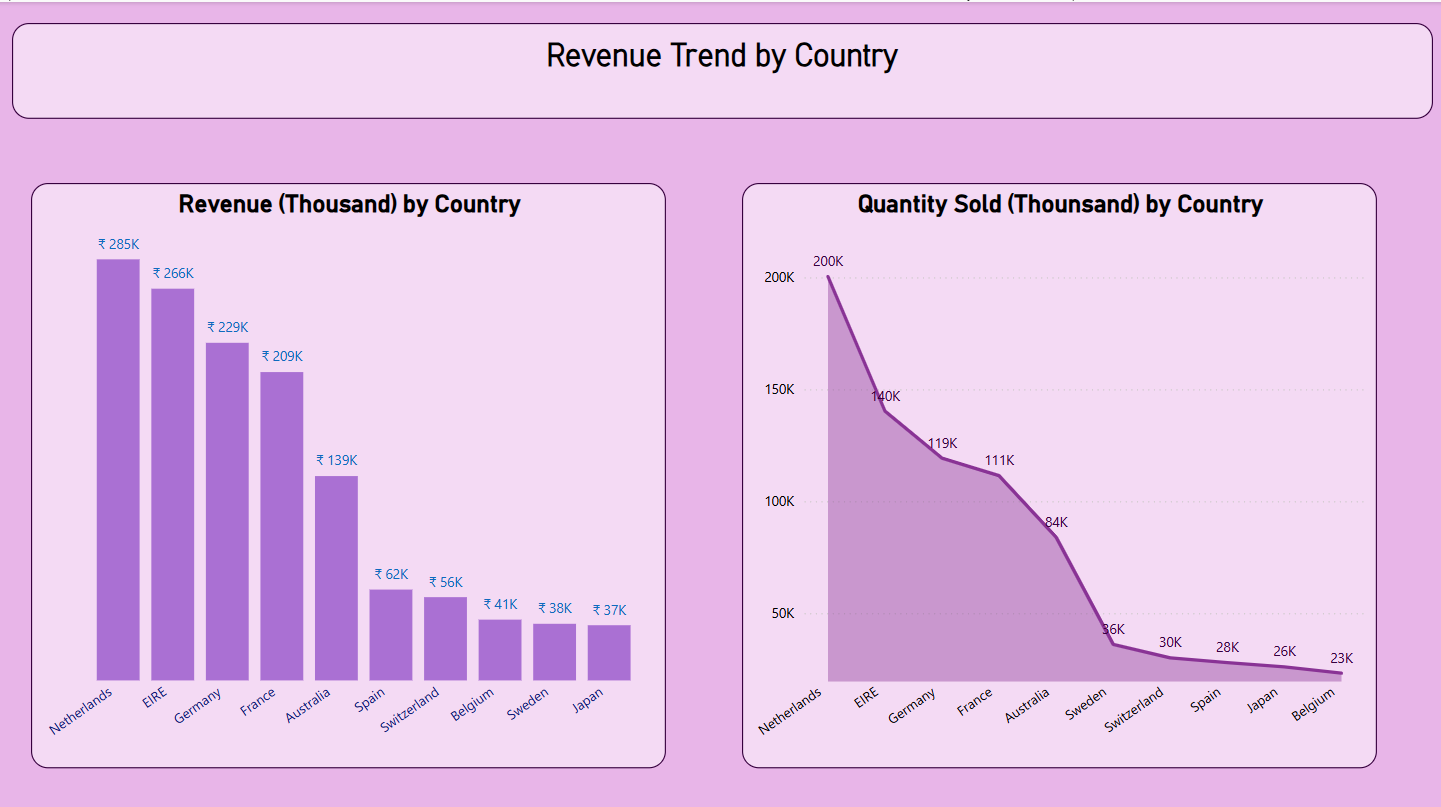

What the dashboard file says about the page in this screenshot:
{"tool":"powerbi","page":{"name":"Task 2","canvas":[1280,720],"ordinal":1},"visuals":[{"type":"textbox","box":[10.7,18.5,1259.6,84.6],"z":0},{"type":"clusteredColumnChart","title":"Revenue (Thousand) by Country","fields":{"Category":["Online Retail.Country"],"Y":["Sum(Online Retail.Revenue)"]},"box":[27.2,160.5,563.2,519.4],"z":1000},{"type":"lineChart","title":"Quantity Sold (Thounsand) by Country","fields":{"Category":["Online Retail.Country"],"Y":["Sum(Online Retail.Quantity)"]},"box":[657.5,160.5,563.2,519.4],"z":2000}]}

Visuals, with their boxes in screenshot pixels (x1, y1, x2, y2), scaled from the page's 1280x720 canvas onto the 1441x807 screenshot:
textbox: bbox(12, 21, 1430, 116)
"Revenue (Thousand) by Country" clusteredColumnChart: bbox(31, 180, 665, 762)
"Quantity Sold (Thounsand) by Country" lineChart: bbox(740, 180, 1374, 762)
